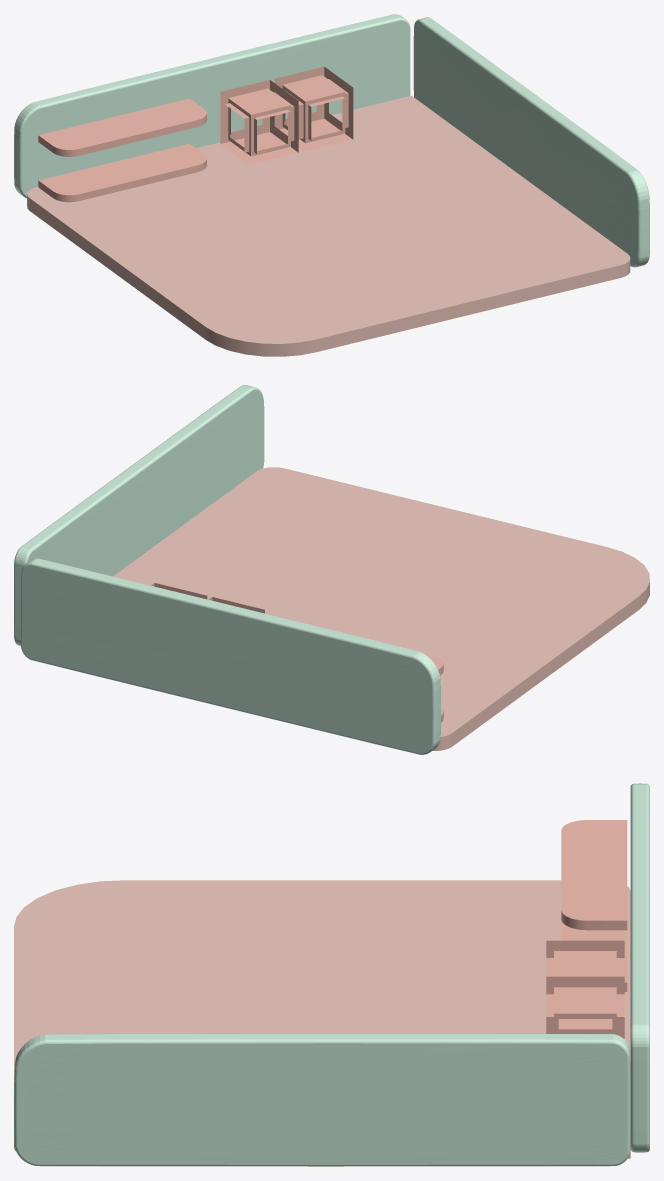
Rendered from store30.glb.
The picture shows the model from 3 angles, top to bottom: view 1: azimuth 30°, elevation 25°; view 2: azimuth 150°, elevation 25°; view 3: azimuth 270°, elevation 25°; orthographic projection. The views are drawn at different scales.
Size of the model in its own units: 3.09 by 0.6794 by 3.08.
